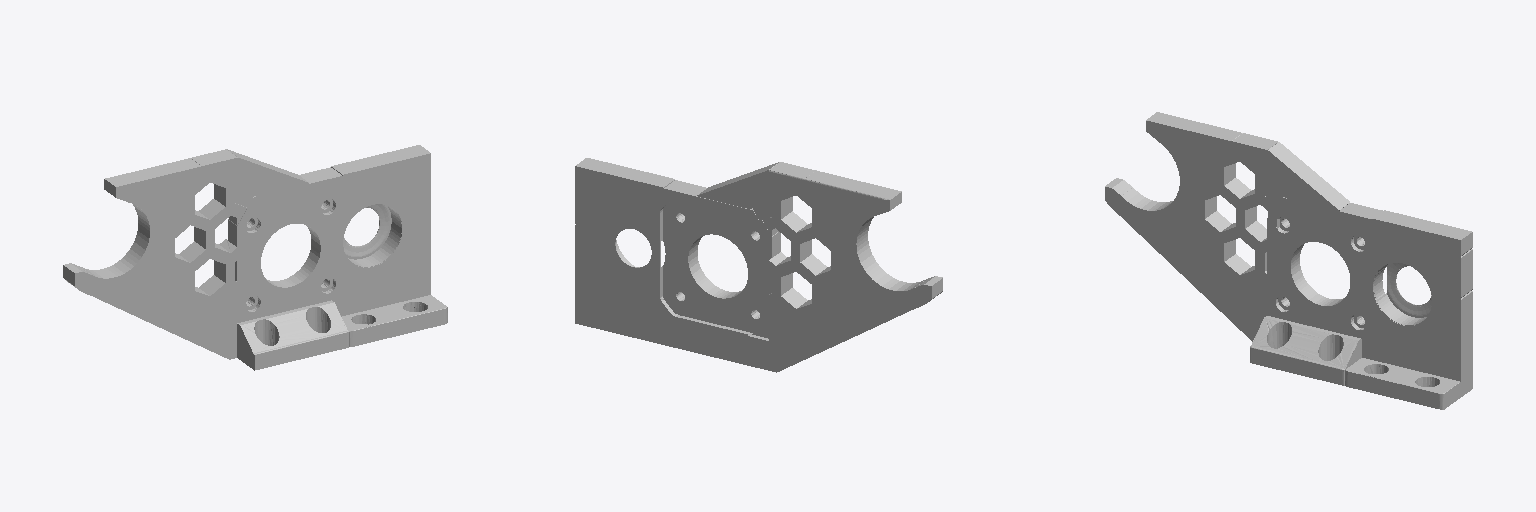
File: RECREATOR3D inline.obj
The picture shows the model from 3 angles: view 1: azimuth 30°, elevation 25°; view 2: azimuth 150°, elevation 25°; view 3: azimuth 330°, elevation 25°; orthographic projection.
Parts seen in each view (by area): view 1: Object.1; view 2: Object.1; view 3: Object.1.
Part boxes in pixels (bbox=[...]): Object.1: bbox=[63, 145, 447, 370]; Object.1: bbox=[575, 158, 942, 372]; Object.1: bbox=[1105, 112, 1472, 409].
Bounding box in the file's own units: 147 × 79.02 × 20.88.